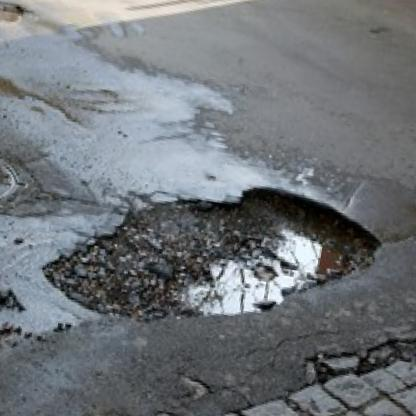pothole: (37, 155, 389, 356), (0, 0, 28, 31)
